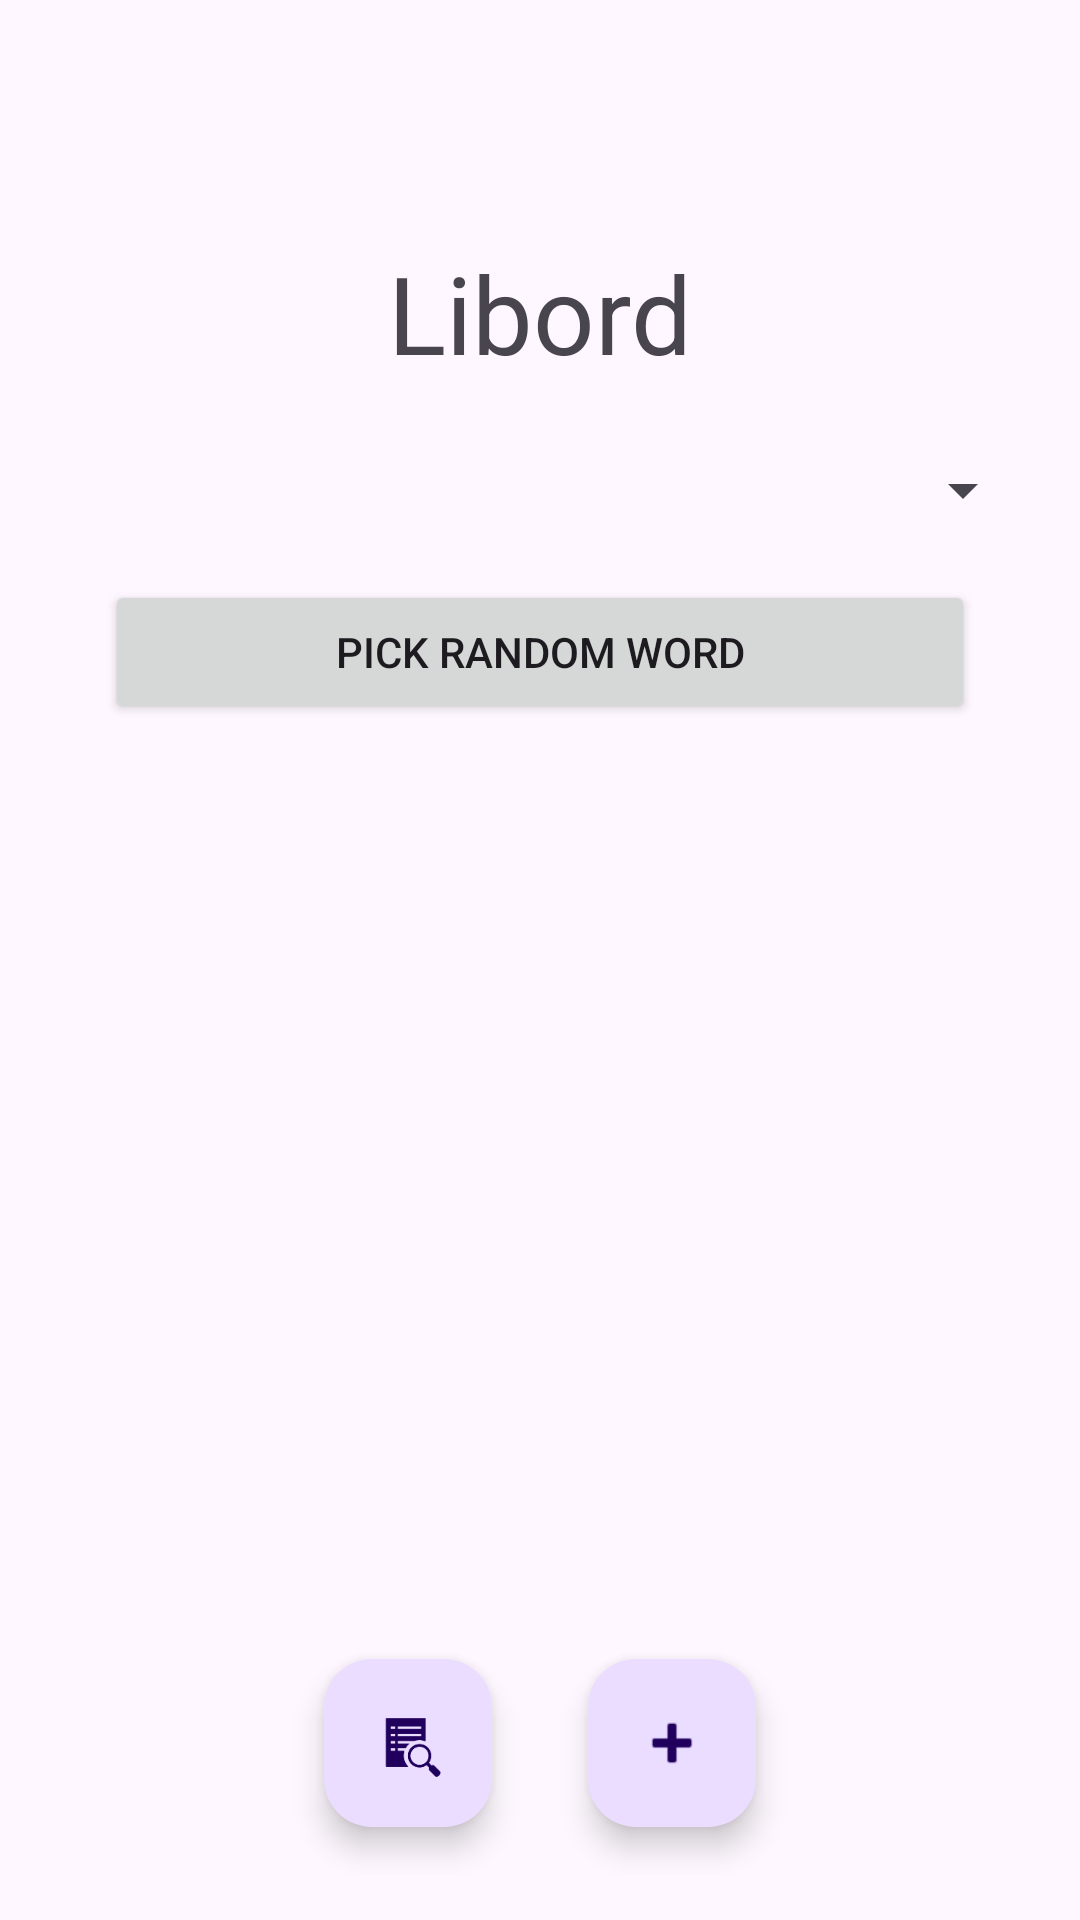

Icon click points for this 1080px×1920px phone screenshot, format [x,y]:
add: [672,1743]
